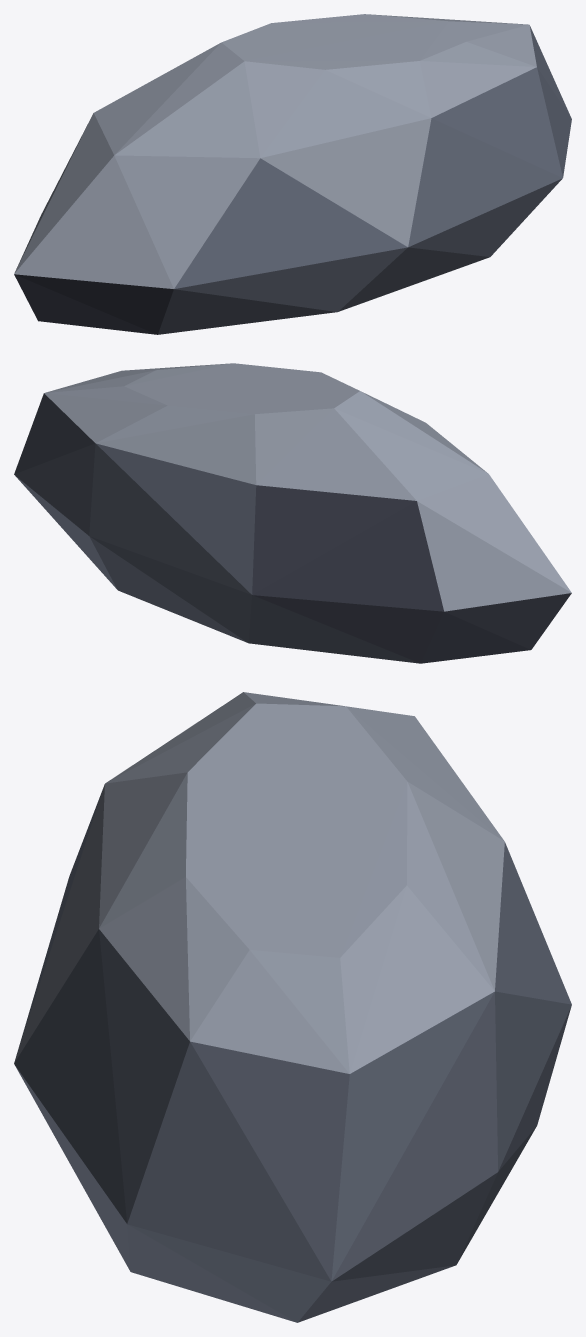
File: TW_ROCK_LOW_WEDGE_B_LOD0.glb
3 renders of one model, top to bottom at view 1: azimuth 30°, elevation 25°; view 2: azimuth 150°, elevation 25°; view 3: azimuth 270°, elevation 25°, orthographic. The views are drawn at different scales.
Parts seen in each view (by area): view 1: TW_ROCK_LOW_WEDGE_B_LOD0; view 2: TW_ROCK_LOW_WEDGE_B_LOD0; view 3: TW_ROCK_LOW_WEDGE_B_LOD0.
Boxes of the visible parts, x1,y1,x2,y2 form: TW_ROCK_LOW_WEDGE_B_LOD0: (14, 14, 571, 334); TW_ROCK_LOW_WEDGE_B_LOD0: (14, 363, 571, 663); TW_ROCK_LOW_WEDGE_B_LOD0: (14, 692, 571, 1322).
Bounding box in the file's own units: 1.61 × 0.5906 × 0.769.
1 material, 1 textured.
